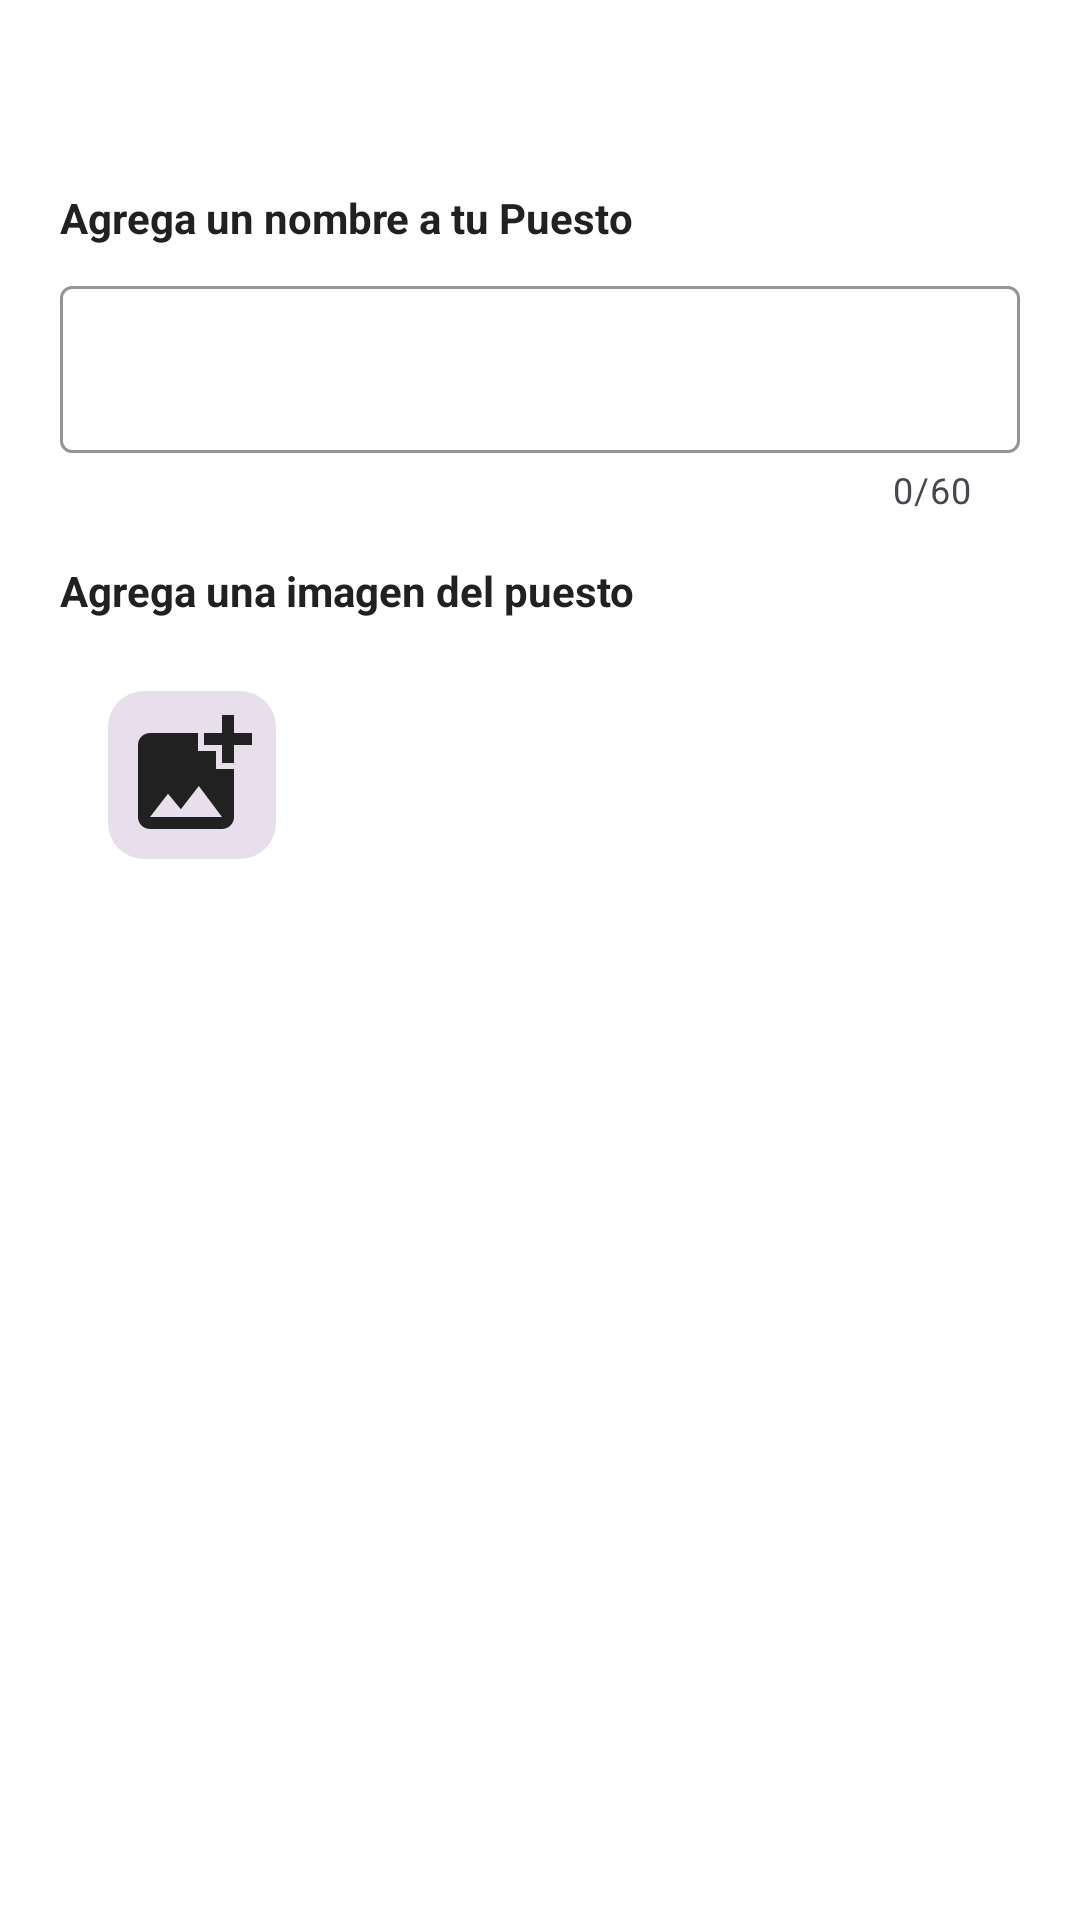

Screen size 1080x1920. Icon name, then its box in pixels as (x1, y1, x2, y2):
agregar: (108, 691, 276, 859)
